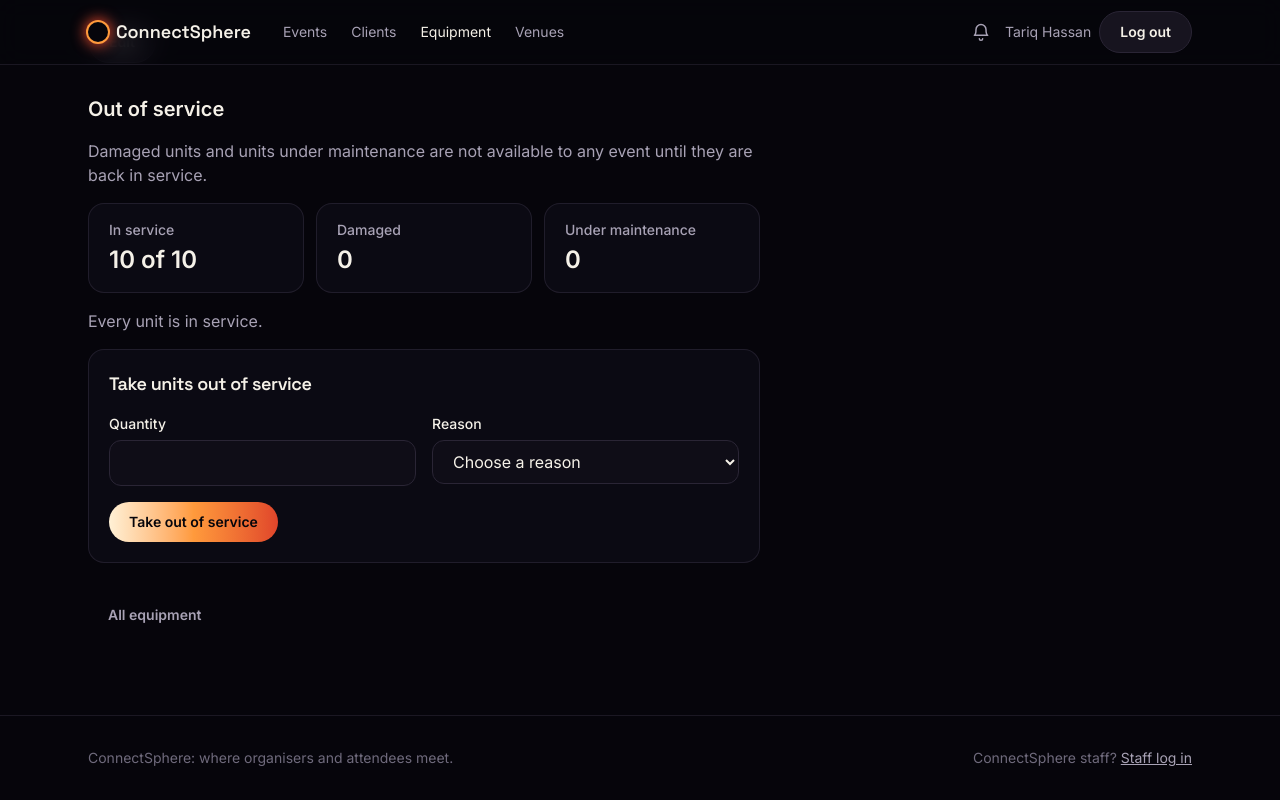
SCRUM-47 units out of service on an equipment type page › shows the backend's message when putting units back is refused
(page scrolled)
Type "2" into the number field labelled "Quantity".
click(262, 463); type("2")  # box [109,440,416,486]
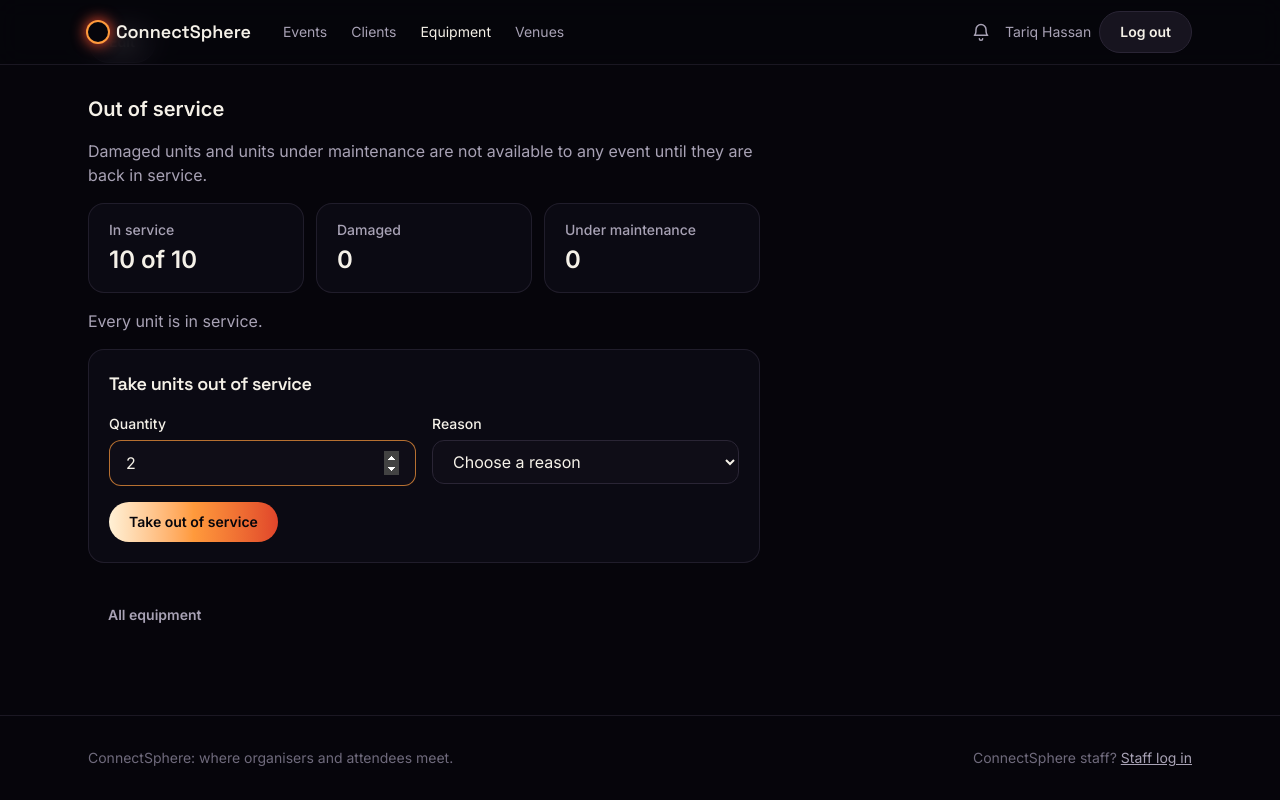
Select "Damaged" in the dropdown labelled "Reason" at (586, 462), box [432,440,739,484]
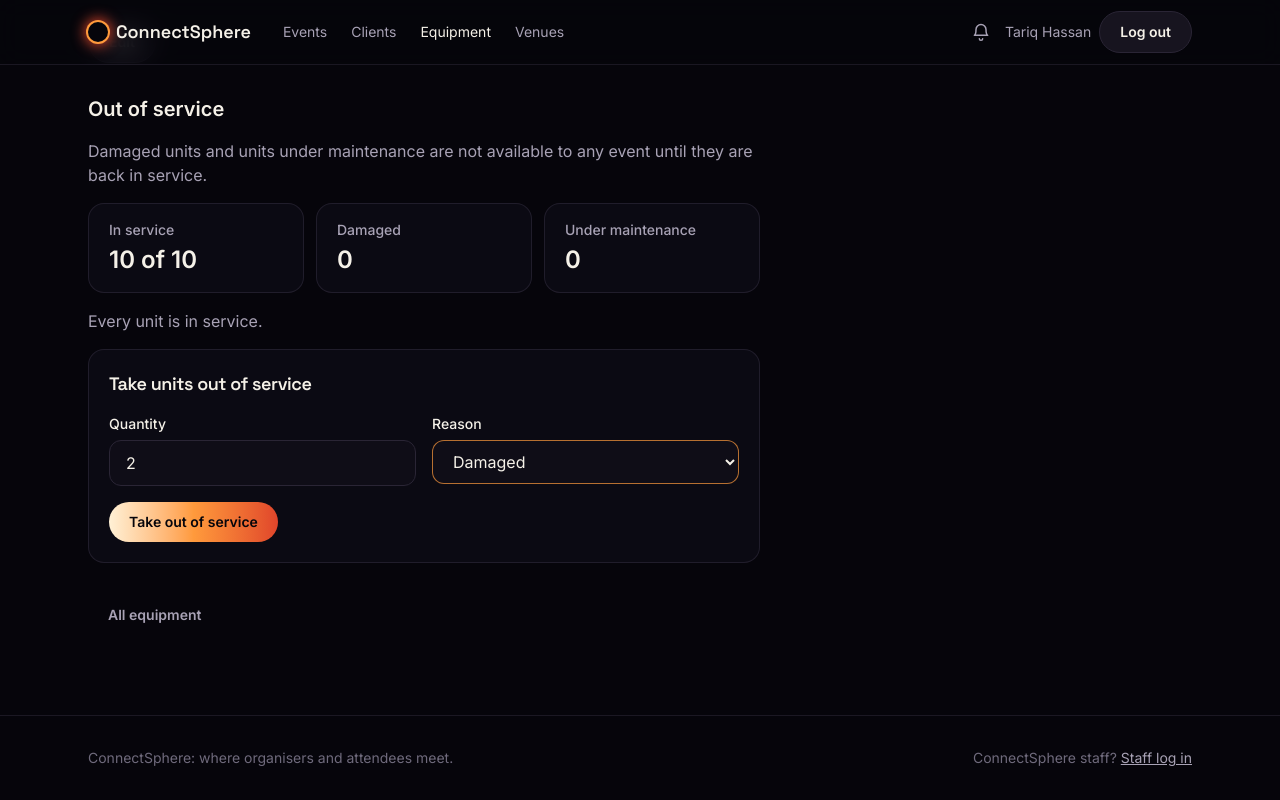
Click the button "Take out of service".
click(193, 522)  # box [109,502,278,542]
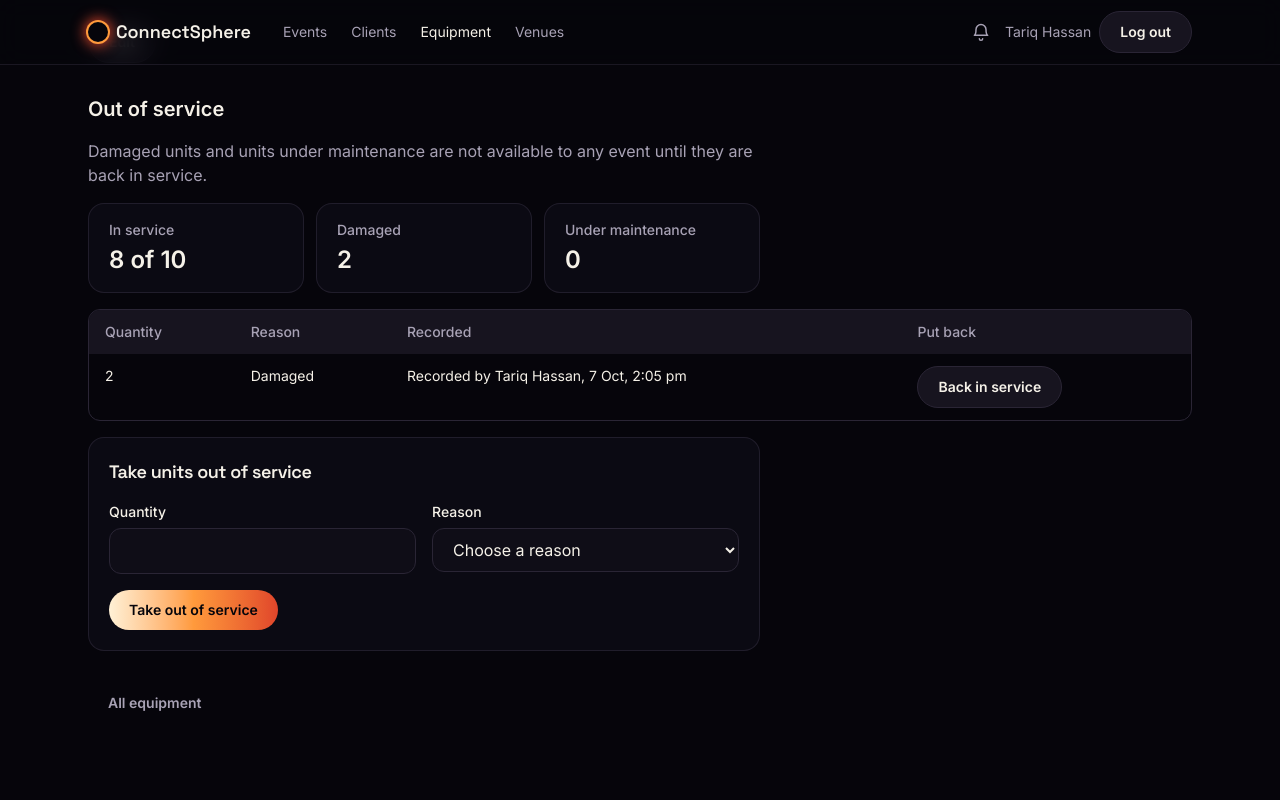
Click the button with aria-label "Put 2 Damaged units back in service".
click(990, 387)  # box [918,366,1062,408]
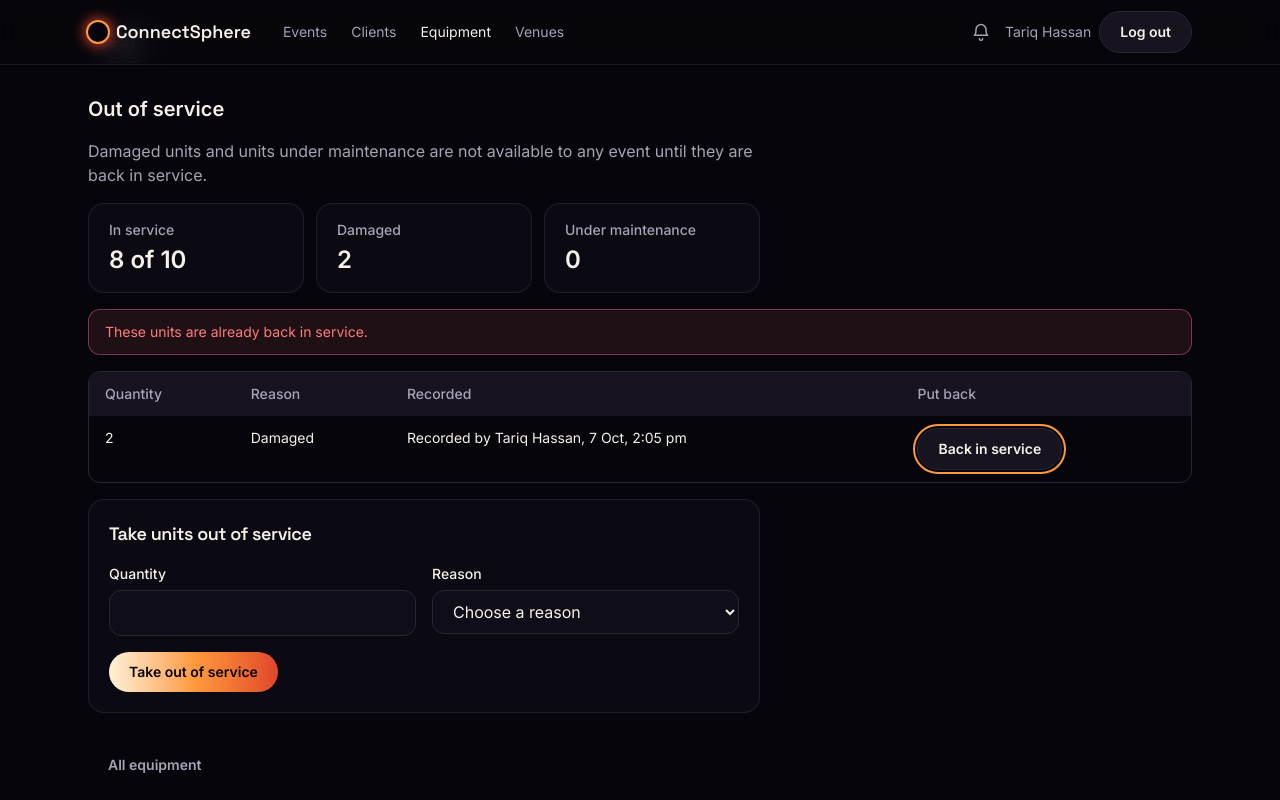
expect the message reads "These units are already back in service.": met, box [105,323,368,340]
